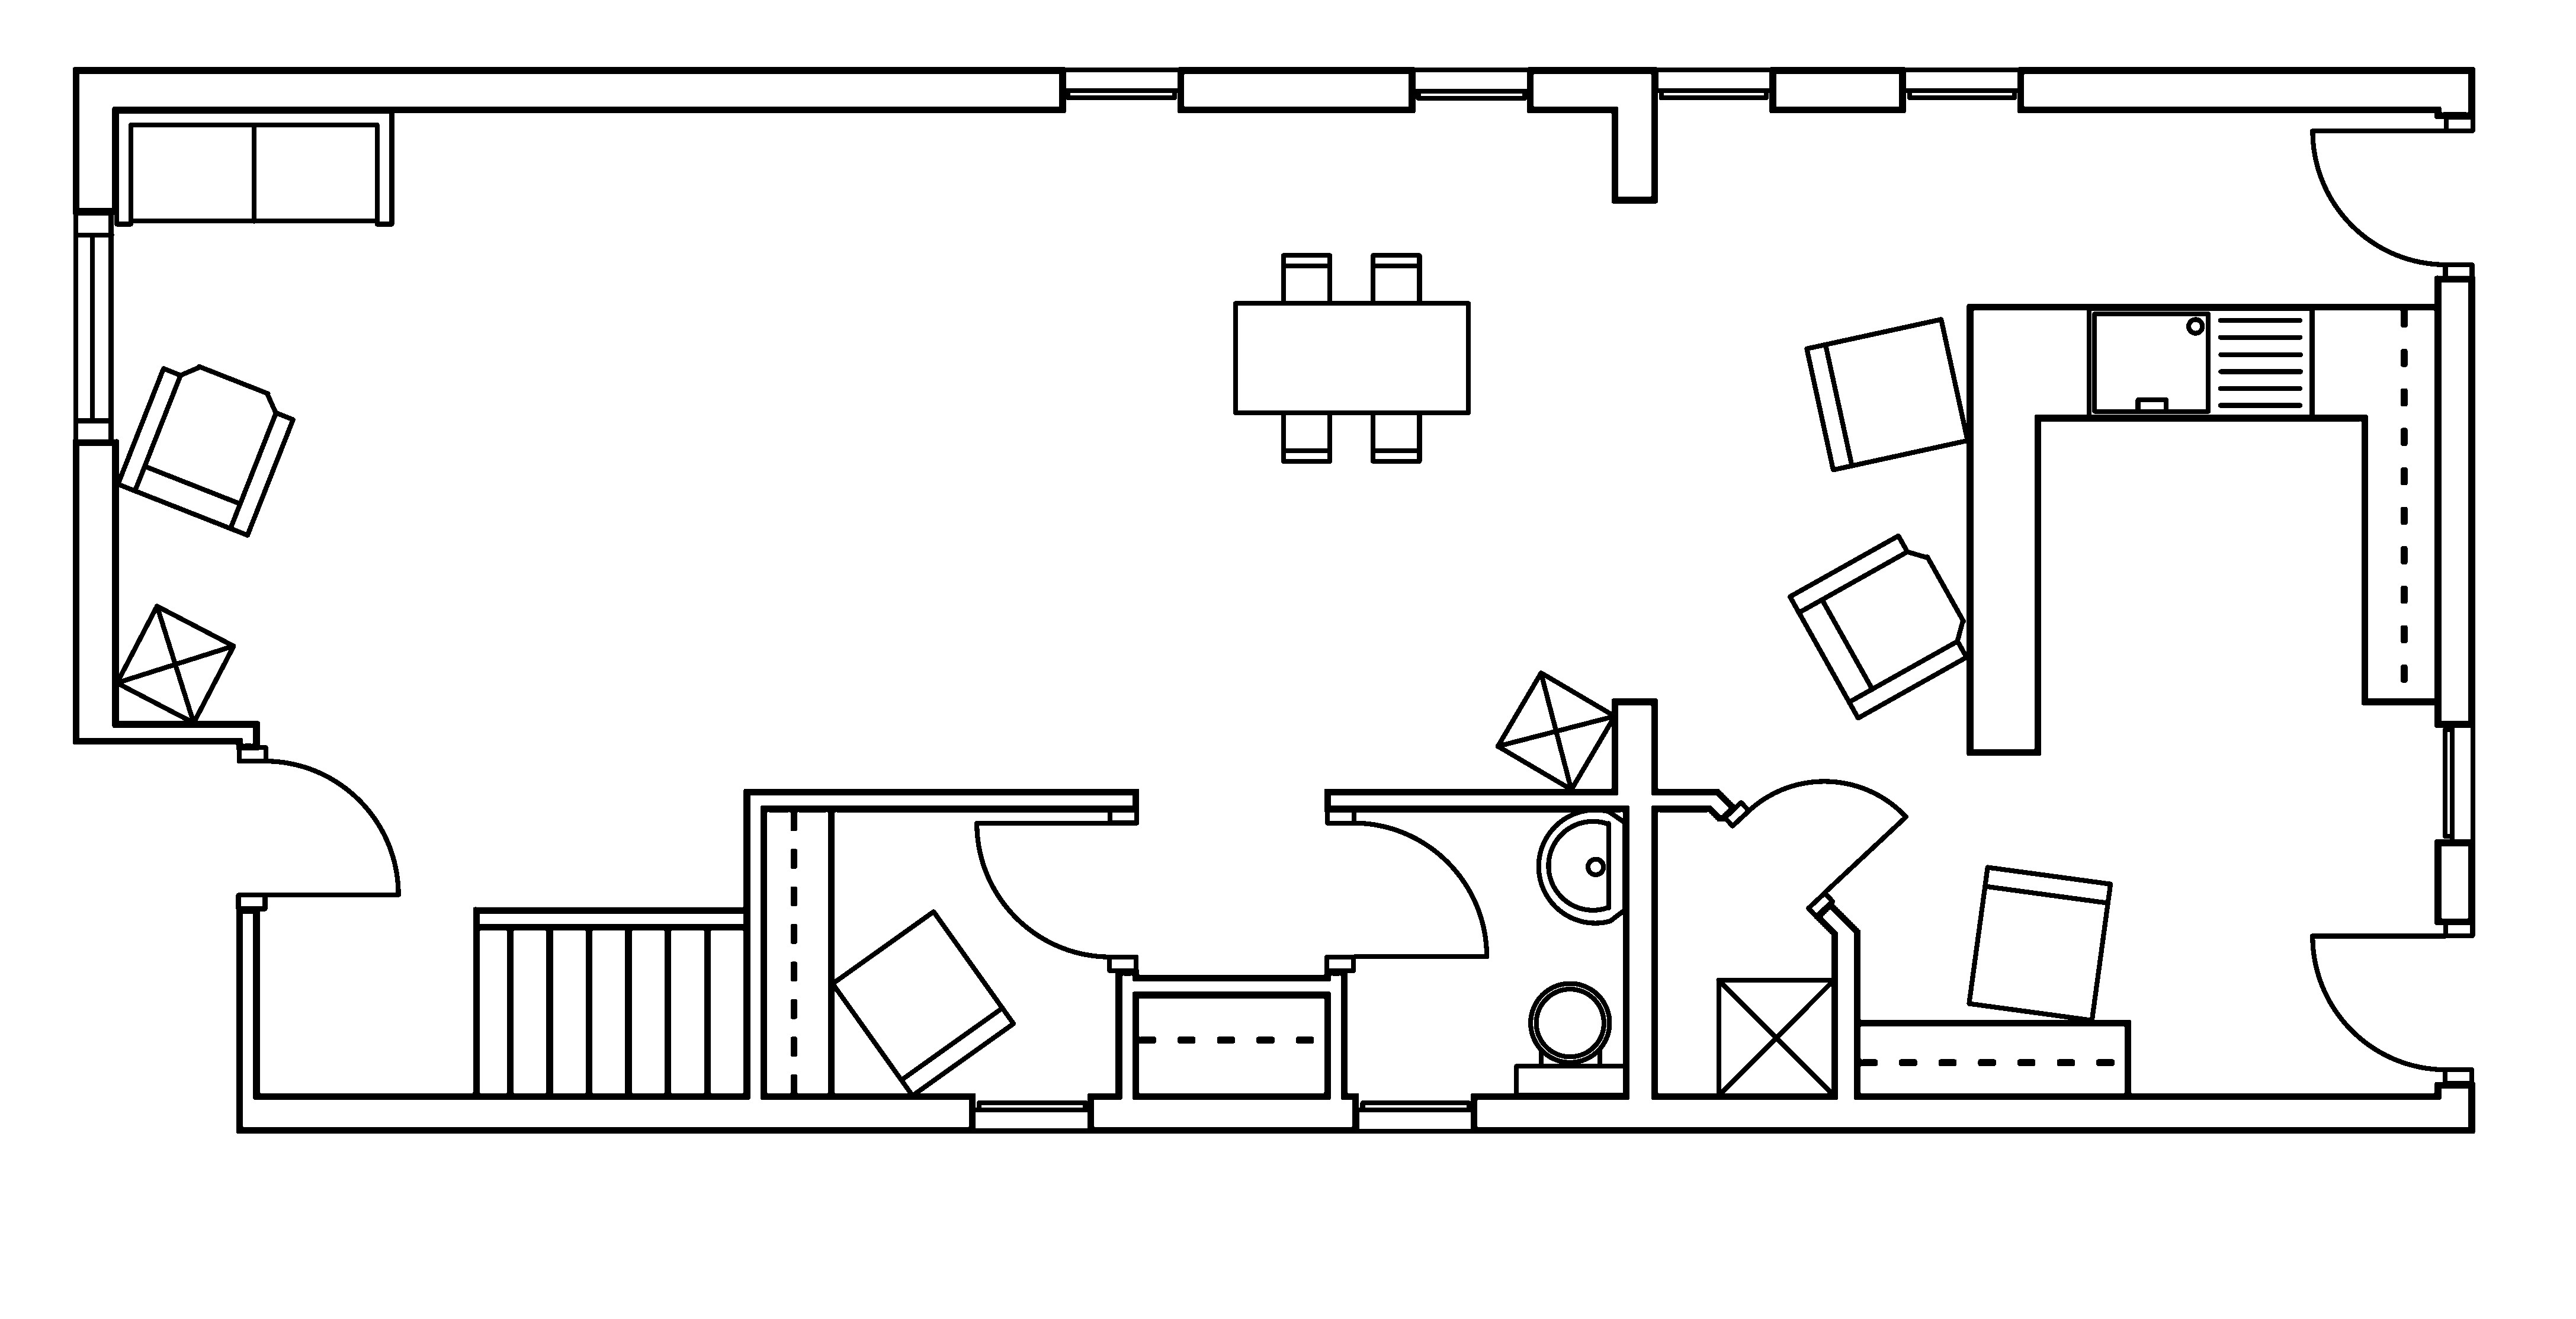armchair: (1786, 532, 1969, 720), (114, 363, 296, 538)
coffee_table: (113, 602, 237, 725), (1493, 670, 1618, 792), (1715, 976, 1836, 1099)
dining_table: (1231, 252, 1471, 464)
large_sink: (1513, 981, 1628, 1097)
large_sofa: (113, 108, 395, 227)
sink: (2085, 305, 2314, 421)
small_sink: (1535, 808, 1628, 925)
small_sofa: (829, 908, 1016, 1099), (1803, 316, 1971, 473), (1966, 863, 2114, 1023)
